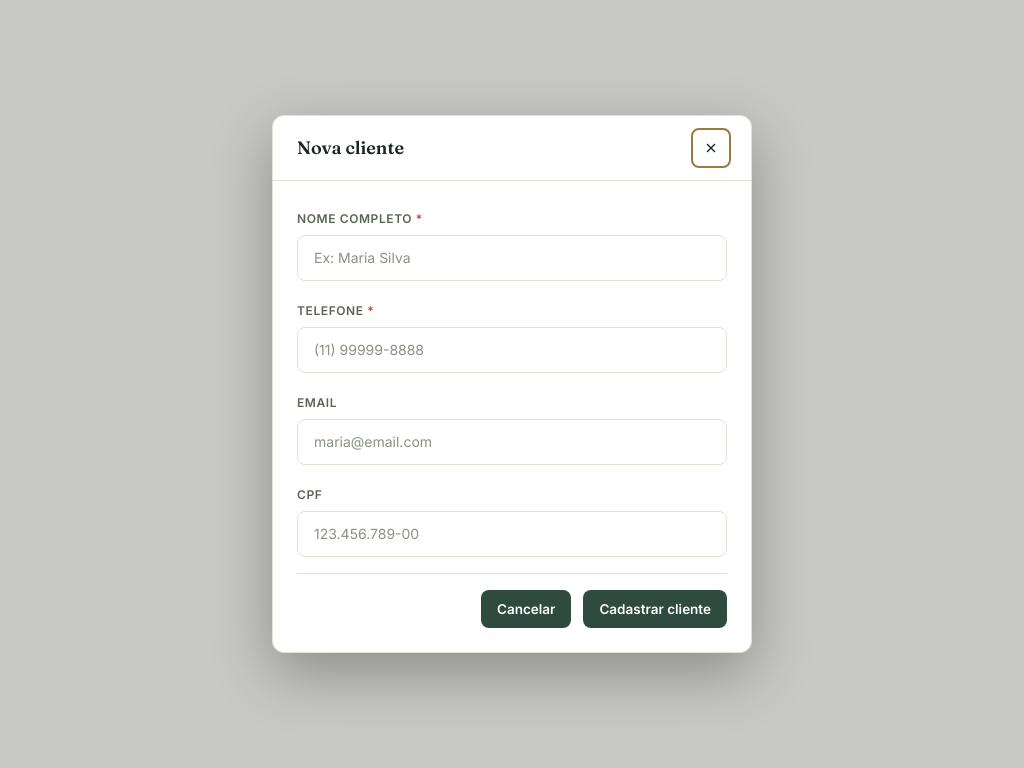
Test: CadastroModal › deve mascarar telefone no formato (XX) XXXXX-XXXX
This screenshot has width=1024, height=768.
In the field with placeholder "(11) 99999-8888": (512, 350) [297,327,727,373], type "11982214410"
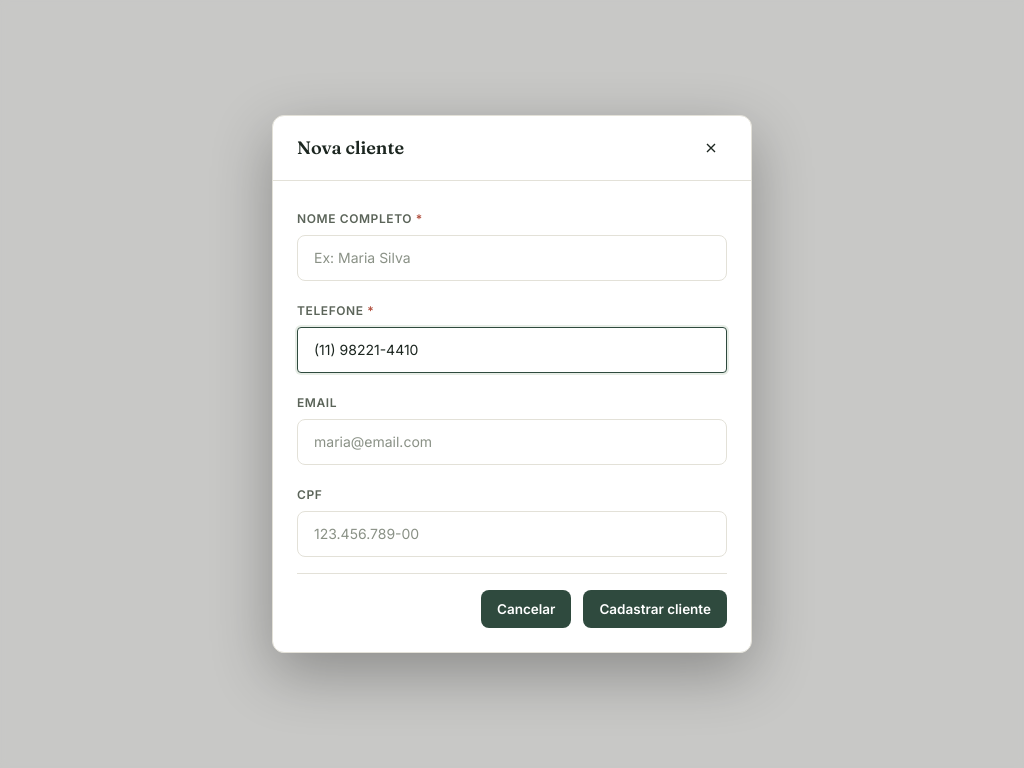
Check: the field with placeholder "(11) 99999-8888" holds "(11) 98221-4410", box [297,327,727,373]
